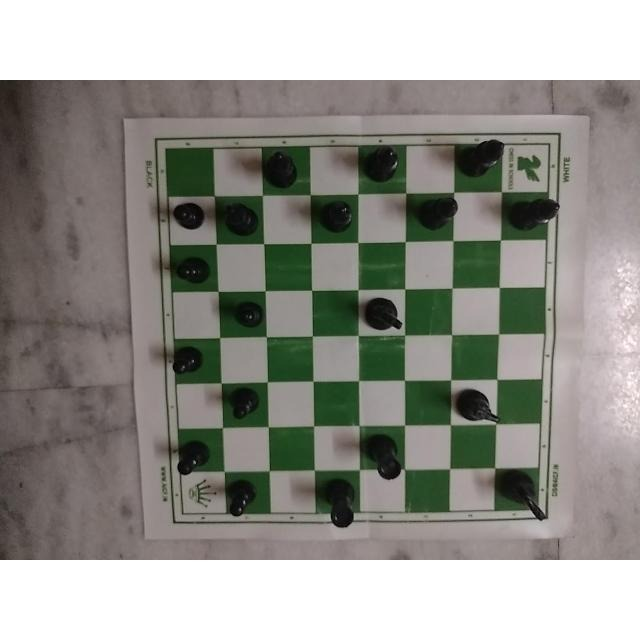black-bishop: (460, 132, 512, 181), (361, 140, 405, 192), (261, 152, 307, 196), (508, 196, 564, 232), (214, 200, 260, 240), (318, 196, 358, 232), (418, 194, 460, 228)
black-knight: (496, 473, 553, 523), (454, 385, 506, 429), (360, 288, 408, 335)
black-pawn: (223, 477, 265, 523), (168, 198, 214, 240), (168, 251, 212, 291), (165, 343, 211, 381), (224, 389, 265, 429), (175, 439, 205, 477), (230, 304, 266, 332)
black-rook: (362, 433, 409, 479), (321, 482, 359, 532)
